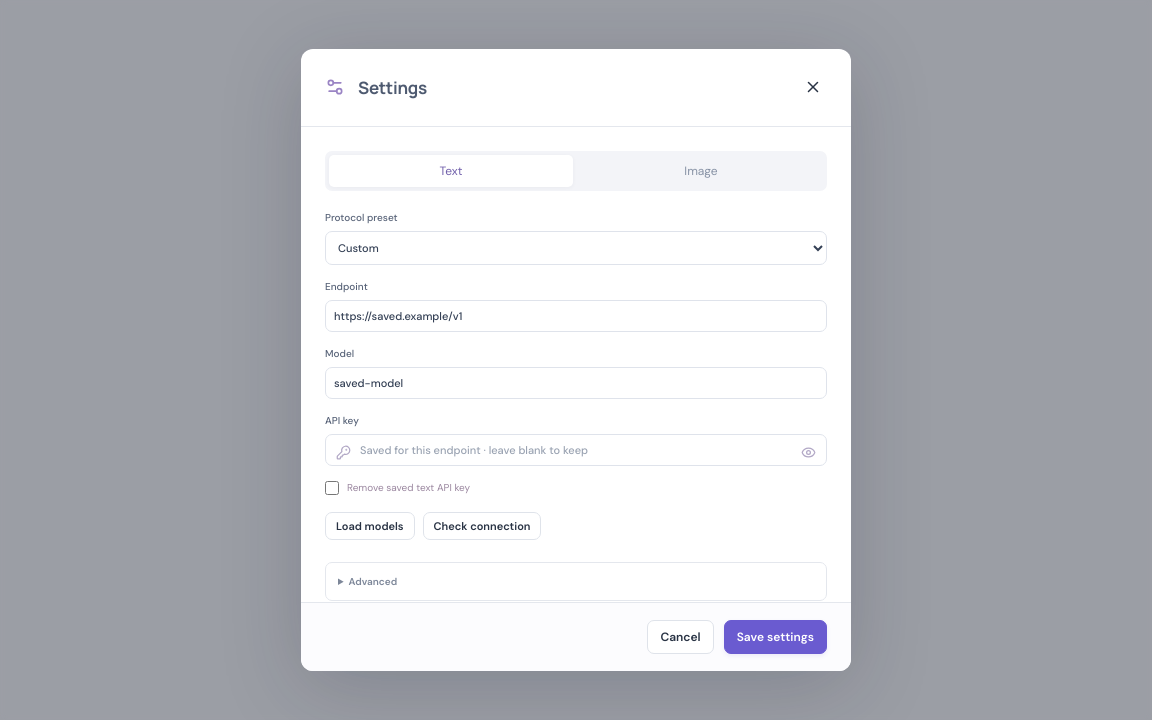
it: provider metadata settings › checks image metadata without claiming generation support or disabling an unlisted model
Click the tab "Image". click: (701, 171)
box: [579,155,823,187]
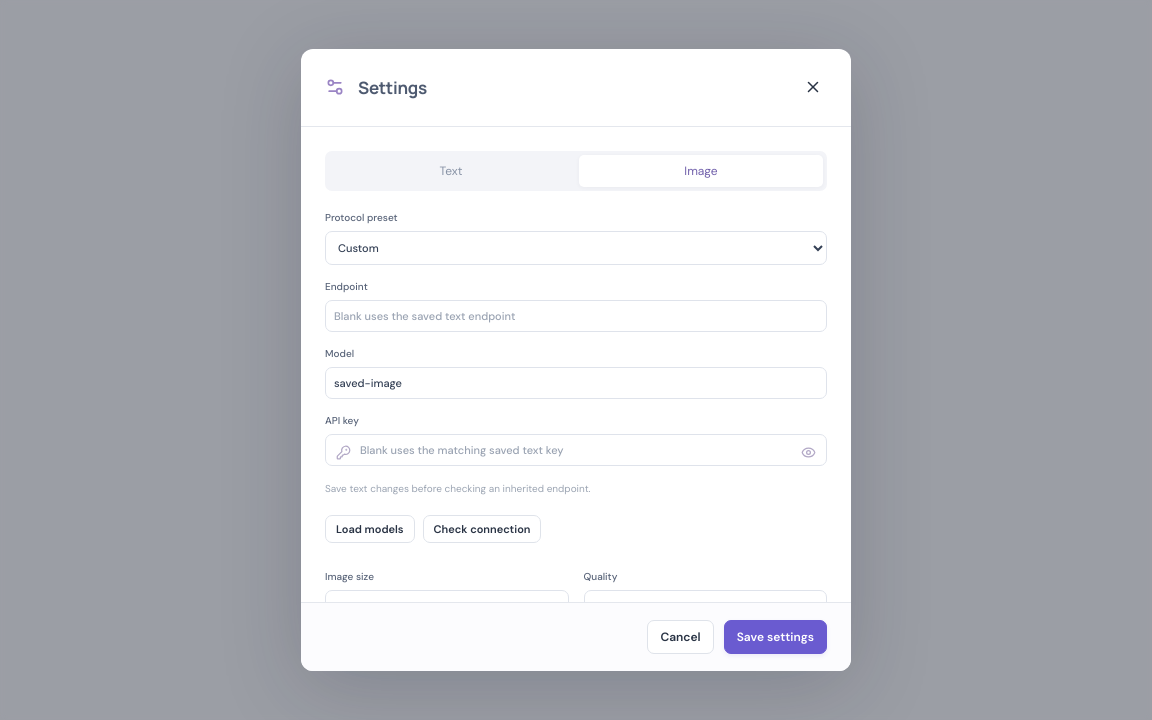
Expected: the text "Save text changes before checking an inherited endpoint." is shown, [325,482,591,495]
Type "https://saved.example/v1" into the field labelled "Endpoint". click: (576, 316)
box: [325,300,827,332]
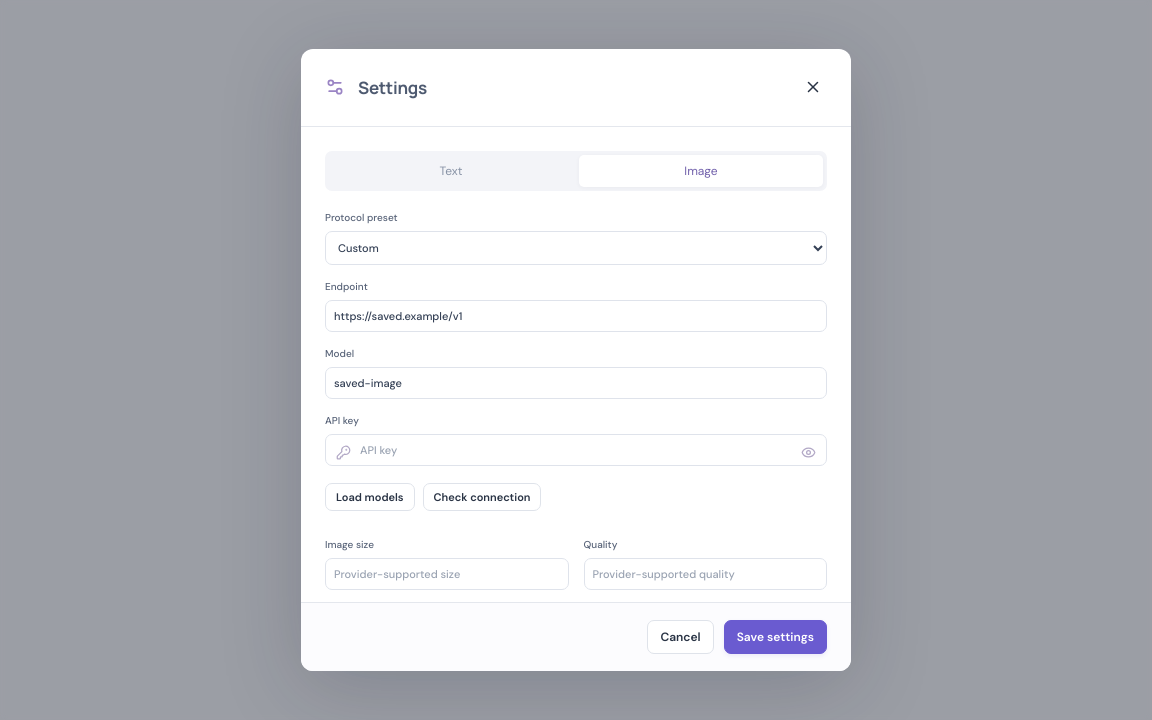
Expected: the label "API key" is shown, [325,414,827,466]
Click the button "Check connection". click: (482, 497)
box: [423,483,542,511]
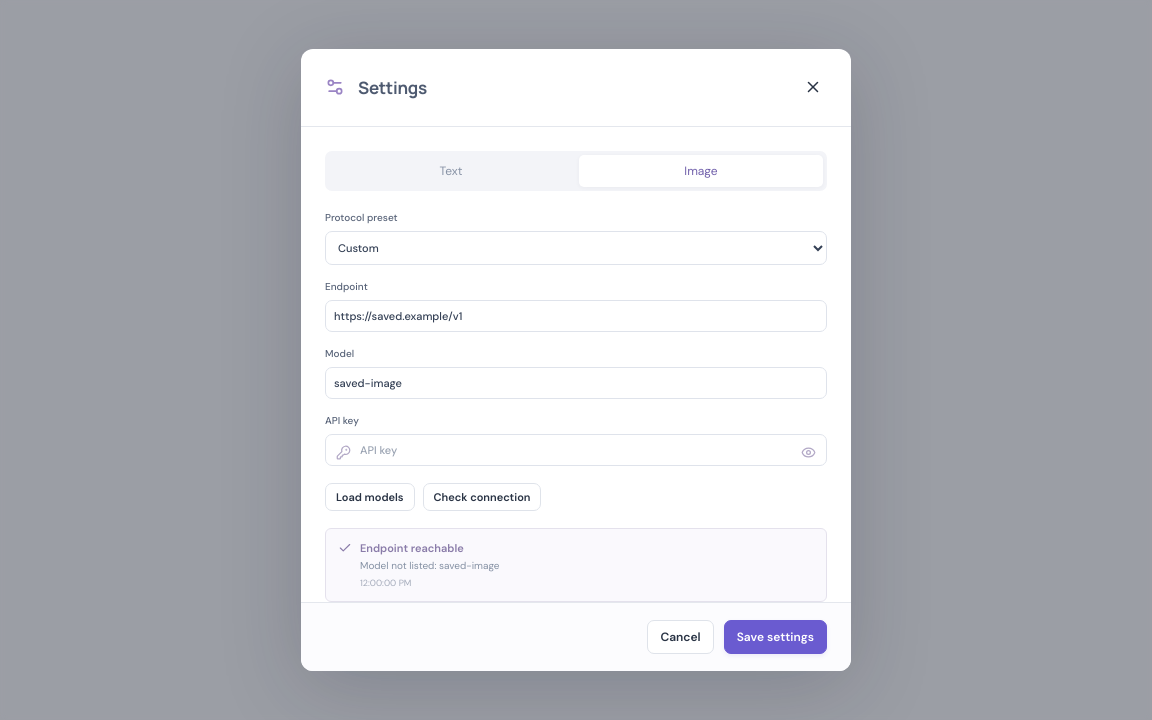
Expected: the button "Save settings" is enabled, [724,620,827,654]
Expected: the text "Model not listed: saved-image" is shown, [360,559,500,572]
